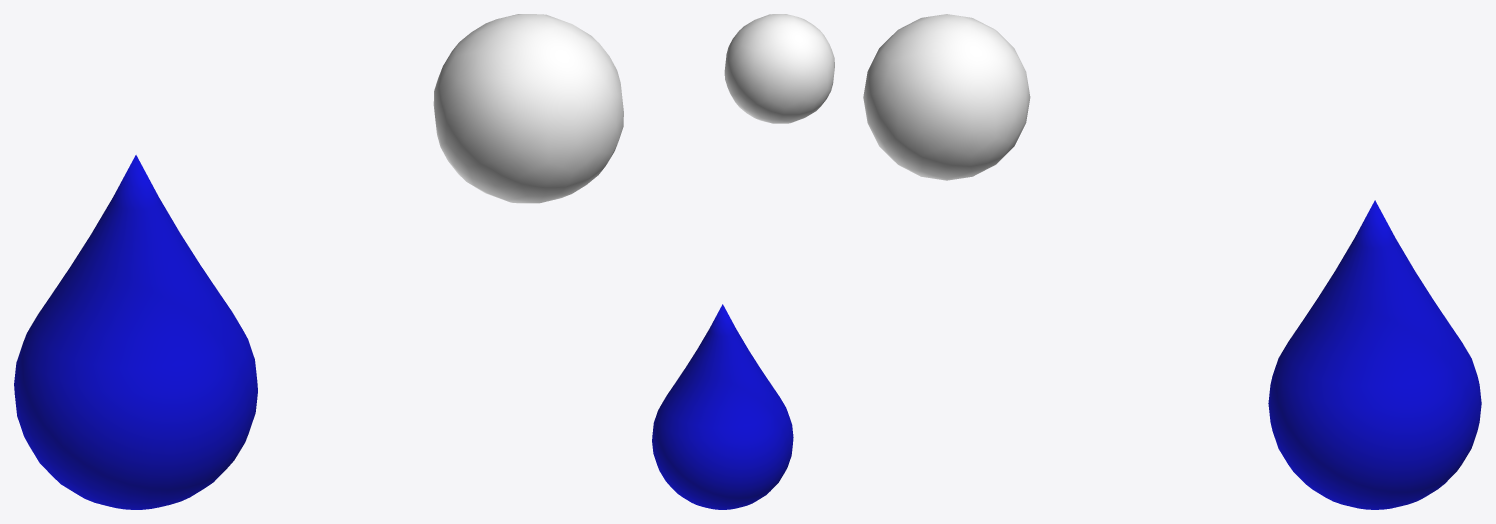
The model's file is particles.glb.
3 views of the same model, side by side, from view 1: azimuth 30°, elevation 25°; view 2: azimuth 150°, elevation 25°; view 3: azimuth 270°, elevation 25° (orthographic). The views are drawn at different scales.
Visible parts, largest first — view 1: drop, grain; view 2: drop, grain; view 3: drop, grain.
Part boxes in pixels (<box>): drop: <box>14,155,257,509</box>; grain: <box>433,14,623,203</box>; drop: <box>652,304,793,509</box>; grain: <box>724,14,834,123</box>; drop: <box>1268,200,1481,509</box>; grain: <box>863,14,1030,180</box>.
Size of the model in its own units: 0.154 by 0.2721 by 0.2816.
